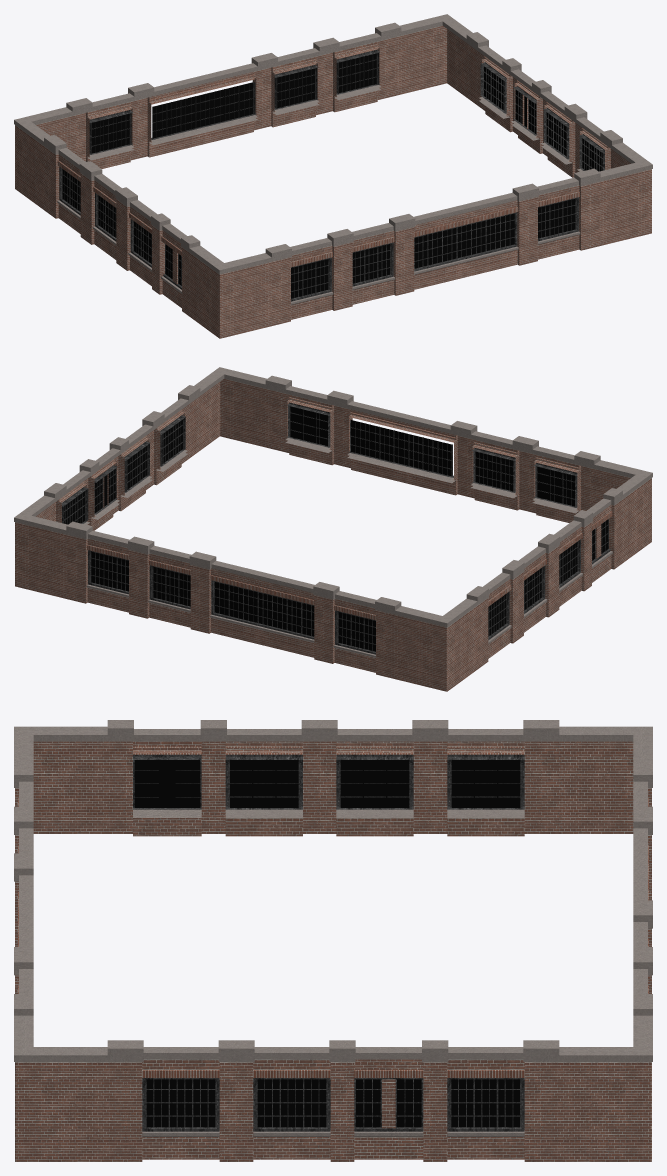
File: BuildingA_Top_Shell_VarA.fbx
3 views of the same model, one above another, from view 1: azimuth 30°, elevation 25°; view 2: azimuth 150°, elevation 25°; view 3: azimuth 270°, elevation 25° (orthographic). The views are drawn at different scales.
Visible parts, largest first — view 1: BuildingA_Top_Shell_VarA; view 2: BuildingA_Top_Shell_VarA; view 3: BuildingA_Top_Shell_VarA.
Part boxes in pixels (bbox=[...]): BuildingA_Top_Shell_VarA: bbox=[14, 14, 652, 338]; BuildingA_Top_Shell_VarA: bbox=[14, 367, 652, 691]; BuildingA_Top_Shell_VarA: bbox=[14, 720, 652, 1161].
Bounding box in the file's own units: 2807 × 452 × 2307.
